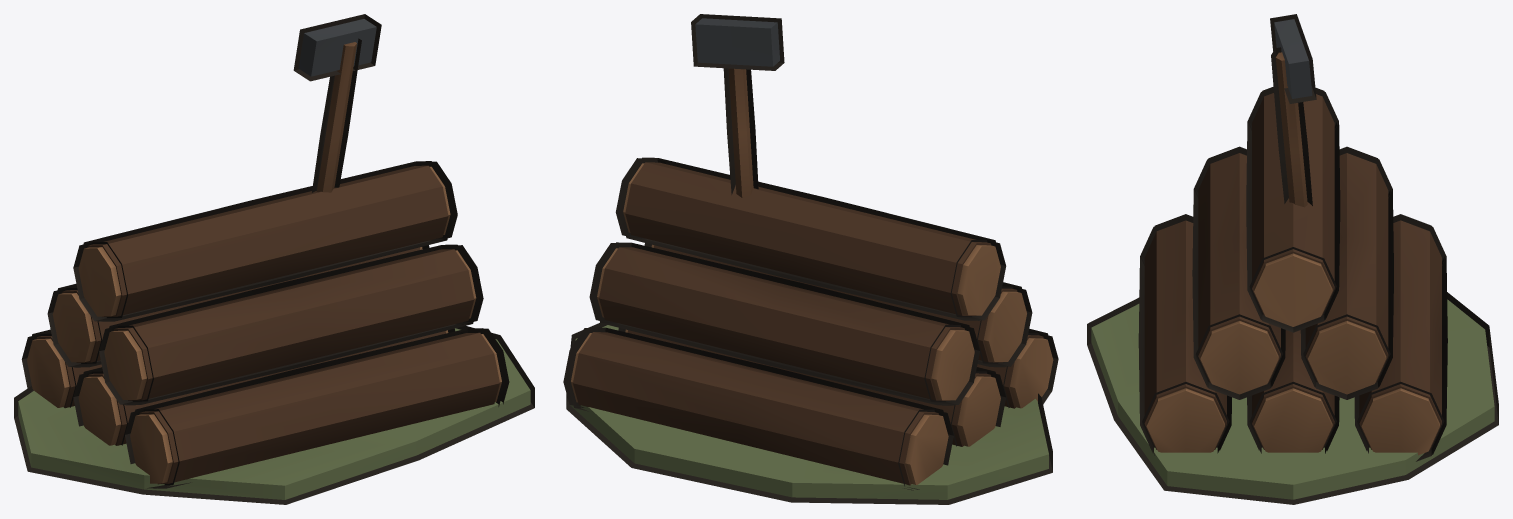
File: tas_de_bois.glb
The picture shows the model from 3 angles, left to right: view 1: azimuth 30°, elevation 25°; view 2: azimuth 150°, elevation 25°; view 3: azimuth 270°, elevation 25°; orthographic projection. The views are drawn at different scales.
Parts seen in each view (by area): view 1: tas_de_bois, tas_de_bois_outline; view 2: tas_de_bois, tas_de_bois_outline; view 3: tas_de_bois, tas_de_bois_outline.
Boxes of the visible parts, box(x1,y1,x2,y2) form: tas_de_bois: box(18, 19, 530, 499); tas_de_bois_outline: box(14, 14, 534, 504); tas_de_bois: box(570, 18, 1053, 499); tas_de_bois_outline: box(563, 14, 1058, 504); tas_de_bois: box(1091, 19, 1494, 499); tas_de_bois_outline: box(1087, 14, 1498, 504).
Bounding box in the file's own units: 1.38 × 1.04 × 0.9962.
